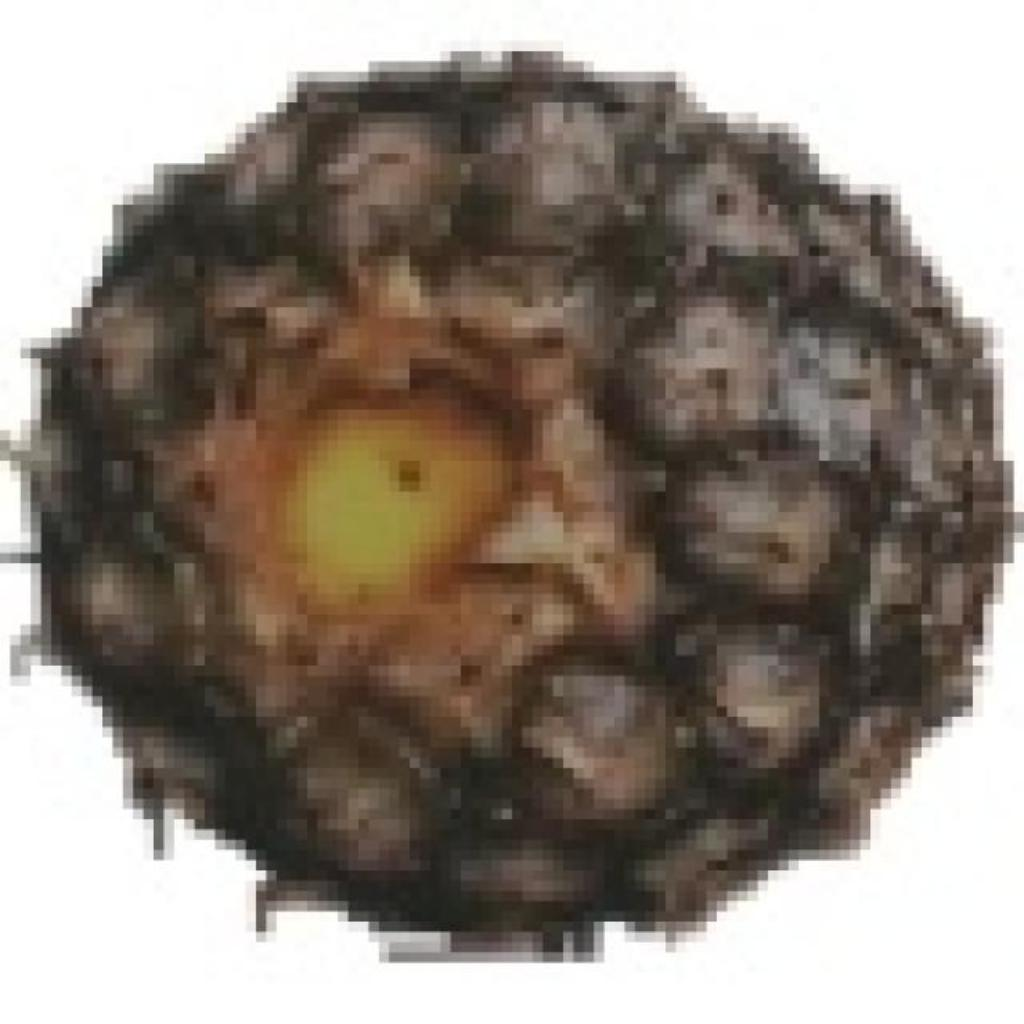pineapple: (51, 41, 1014, 922)
